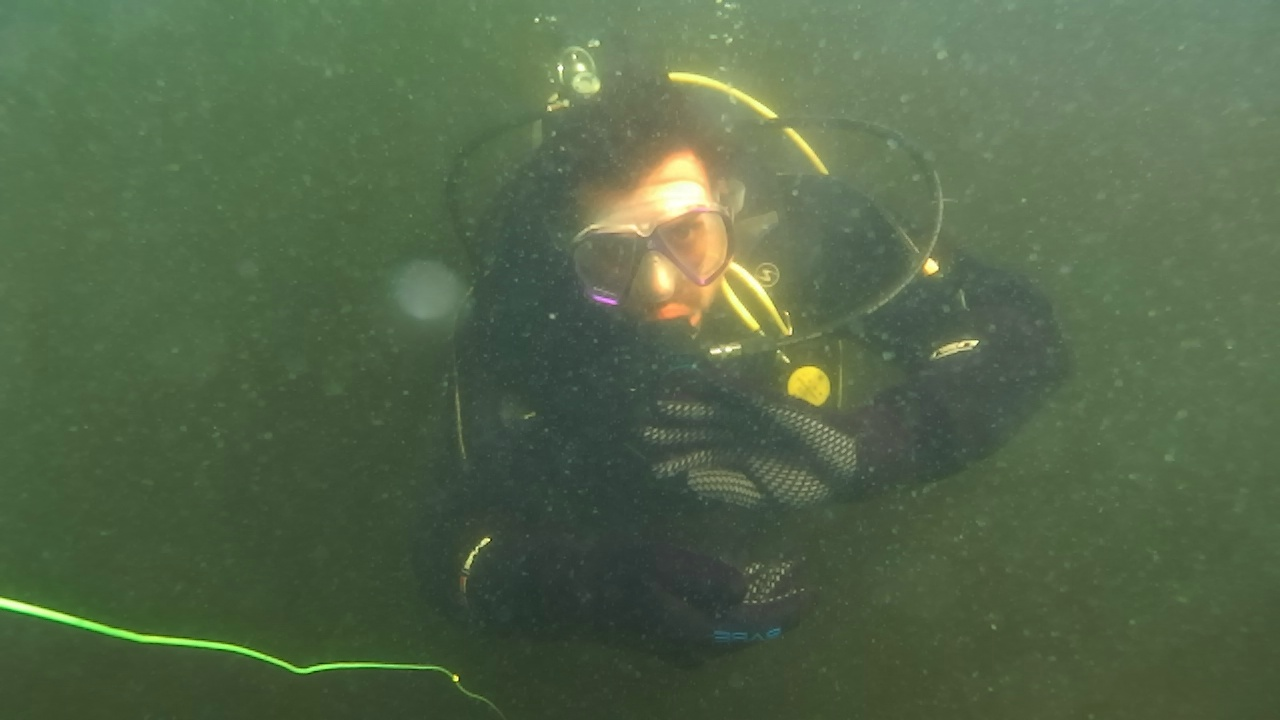Diver: (418, 76, 1078, 666)
Hand: (628, 372, 870, 528), (580, 546, 814, 666)
Head: (522, 84, 748, 354)
